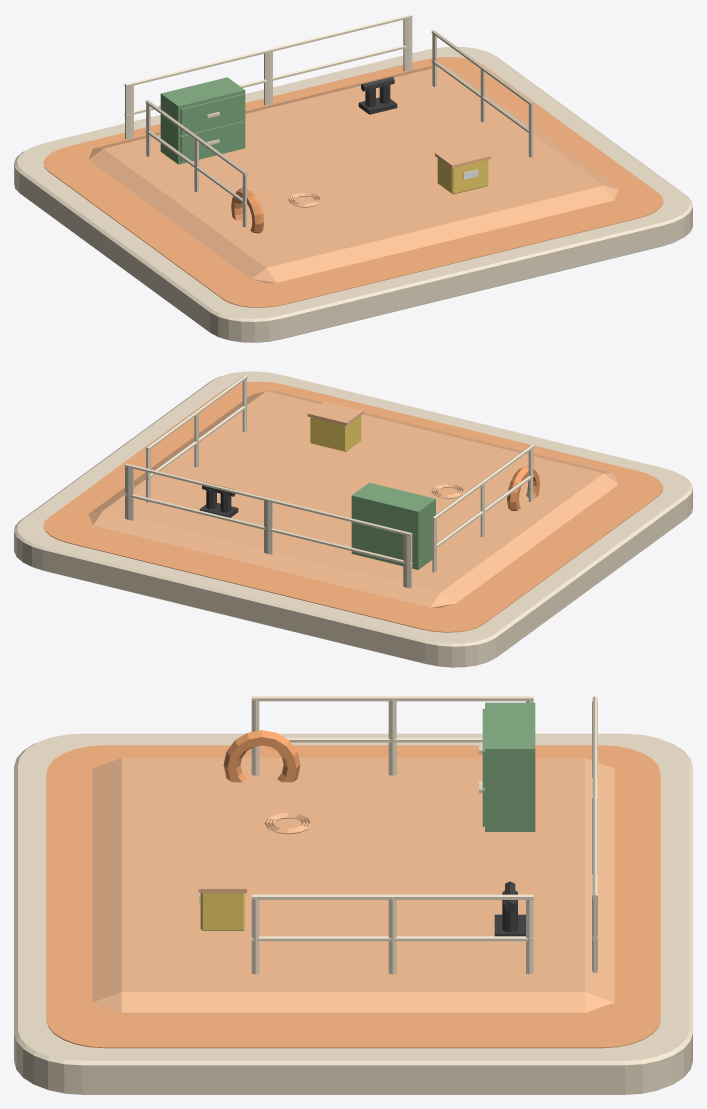
File: room.fbx
3 renders of one model, top to bottom at view 1: azimuth 30°, elevation 25°; view 2: azimuth 150°, elevation 25°; view 3: azimuth 270°, elevation 25°, orthographic. The views are drawn at different scales.
Parts seen in each view (by area): view 1: Deck, COM-01 Rounded Base Direct, COM-02 Floor Surface, Cabinet, Box, Rail.005, Lid, Rail.004, Life ring, Rail.003, Rail.001, Rail.002 (+2 smaller); view 2: Deck, COM-01 Rounded Base Direct, COM-02 Floor Surface, Cabinet, Box, Rail.005, Rail.004, Lid, Life ring, Rail.001, Rail.003, Rail (+4 smaller); view 3: Deck, COM-01 Rounded Base Direct, COM-02 Floor Surface, Cabinet, Life ring, Box, Rail.003, Rail.001, Rail.002, Lid, Rail.005, Rail (+3 smaller).
Boxes of the visible parts, bbox=[...] form: Deck: bbox=[88, 66, 618, 282]; COM-01 Rounded Base Direct: bbox=[14, 46, 692, 342]; COM-02 Floor Surface: bbox=[43, 57, 663, 307]; Cabinet: bbox=[160, 77, 245, 164]; Box: bbox=[437, 158, 488, 194]; Rail.005: bbox=[124, 14, 412, 87]; Lid: bbox=[435, 143, 490, 168]; Rail.004: bbox=[124, 44, 412, 116]; Life ring: bbox=[231, 188, 264, 233]; Rail.003: bbox=[431, 30, 533, 105]; Rail.001: bbox=[145, 100, 247, 175]; Rail.002: bbox=[431, 60, 533, 135]; Deck: bbox=[88, 391, 618, 607]; COM-01 Rounded Base Direct: bbox=[14, 371, 692, 667]; COM-02 Floor Surface: bbox=[43, 381, 663, 632]; Cabinet: bbox=[351, 482, 435, 569]; Box: bbox=[310, 416, 361, 451]; Rail.005: bbox=[124, 463, 412, 536]; Rail.004: bbox=[124, 493, 412, 565]; Lid: bbox=[307, 401, 363, 425]; Life ring: bbox=[507, 465, 539, 510]; Rail.001: bbox=[431, 444, 533, 520]; Rail.003: bbox=[145, 375, 247, 450]; Rail: bbox=[431, 475, 533, 549]; Deck: bbox=[92, 758, 614, 1013]; COM-01 Rounded Base Direct: bbox=[14, 733, 692, 1094]; COM-02 Floor Surface: bbox=[46, 745, 660, 1048]; Cabinet: bbox=[479, 702, 535, 831]; Life ring: bbox=[223, 730, 300, 782]; Box: bbox=[200, 893, 244, 930]; Rail.003: bbox=[251, 894, 533, 899]; Rail.001: bbox=[251, 696, 533, 701]; Rail.002: bbox=[251, 936, 533, 941]; Lid: bbox=[198, 862, 246, 893]; Rail.005: bbox=[592, 696, 597, 899]; Rail: bbox=[285, 737, 482, 742].
Bounding box in the file's own units: 600 × 118 × 520.
